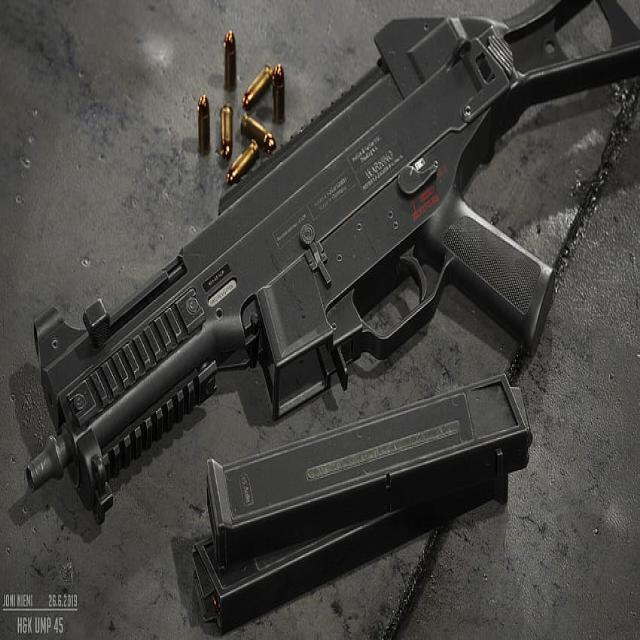SMG: (26, 0, 640, 526)
